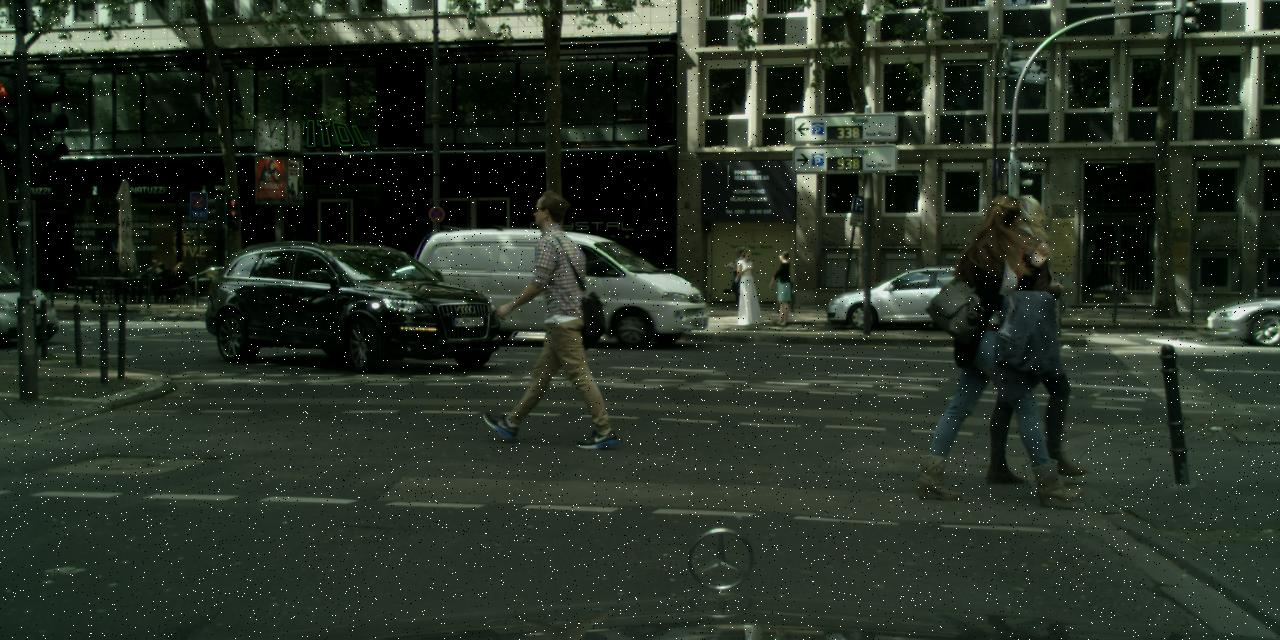ped: (936, 194, 1061, 500), (971, 195, 1087, 478), (501, 192, 602, 440), (139, 259, 192, 306), (732, 248, 762, 322), (768, 250, 798, 324), (726, 246, 752, 306)
